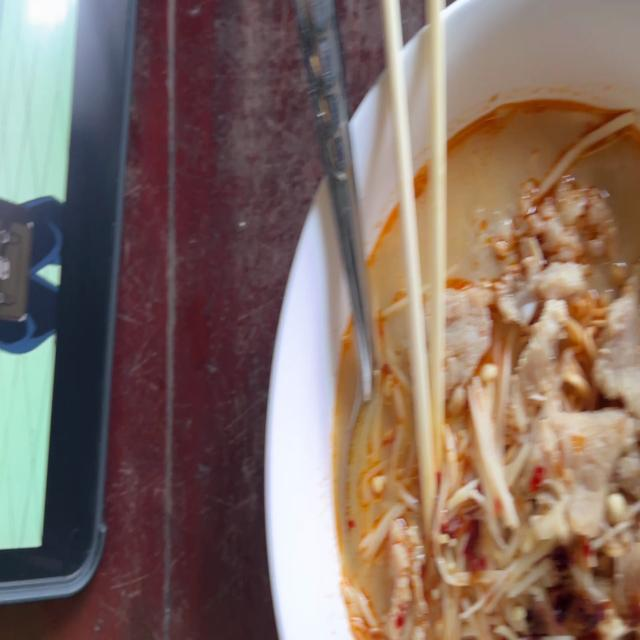noodle: (325, 84, 639, 640)
